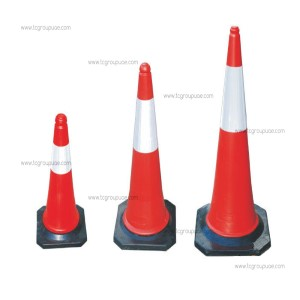traffic cone: (194, 26, 271, 257), (113, 62, 177, 251), (36, 113, 88, 249)
